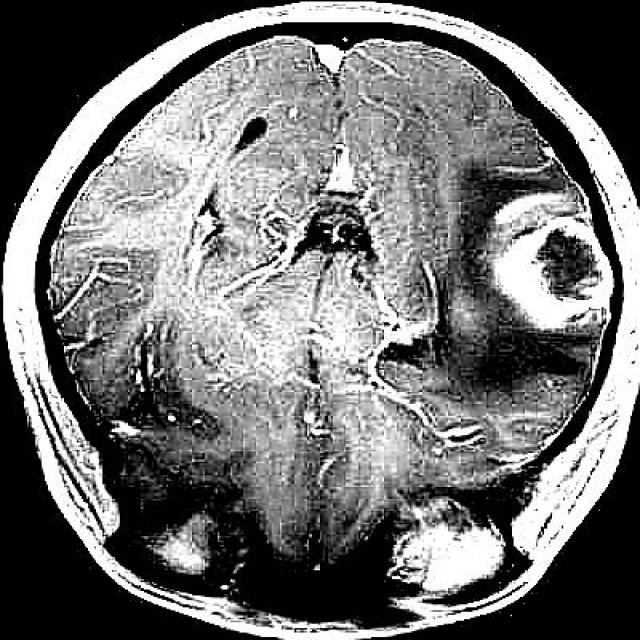tumor: (488, 189, 613, 334), (386, 497, 509, 601)
